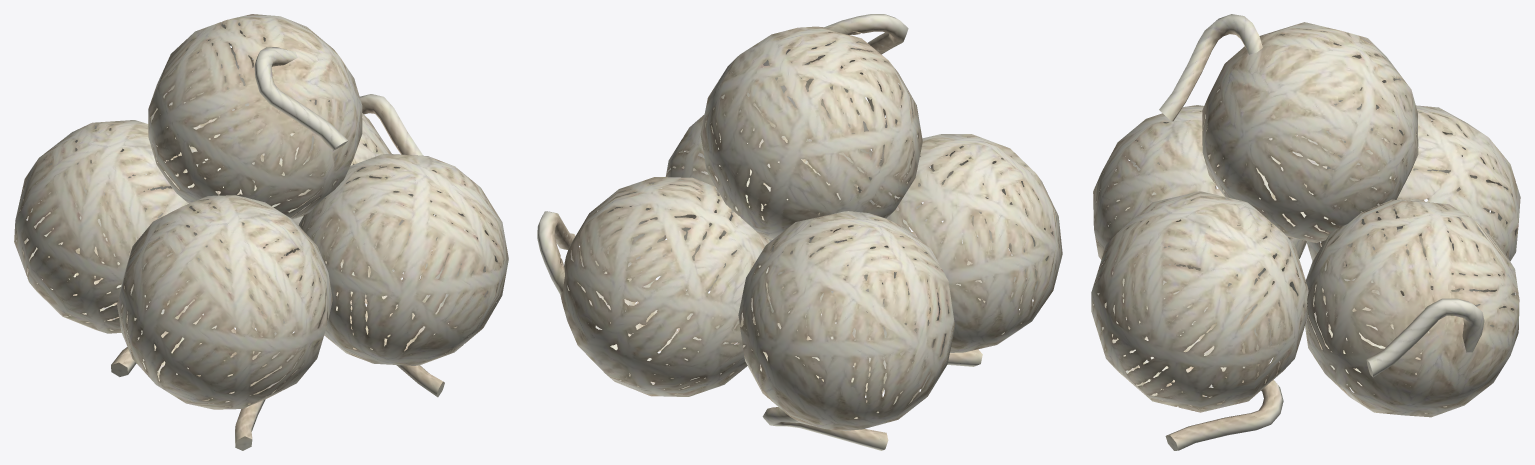
3 views of the same model, side by side, from view 1: azimuth 30°, elevation 25°; view 2: azimuth 150°, elevation 25°; view 3: azimuth 270°, elevation 25° (orthographic). The views are drawn at different scales.
Parts seen in each view (by area): view 1: SM_Thread_Wool_Pile_LOD0; view 2: SM_Thread_Wool_Pile_LOD0; view 3: SM_Thread_Wool_Pile_LOD0.
Boxes of the visible parts, x1=… form: SM_Thread_Wool_Pile_LOD0: x1=14, y1=14, x2=508, y2=450; SM_Thread_Wool_Pile_LOD0: x1=537, y1=14, x2=1062, y2=450; SM_Thread_Wool_Pile_LOD0: x1=1091, y1=14, x2=1520, y2=450.
Size of the model in its own units: 0.4111 by 0.3573 by 0.3823.
Materials: 1 (1 with a texture image).
